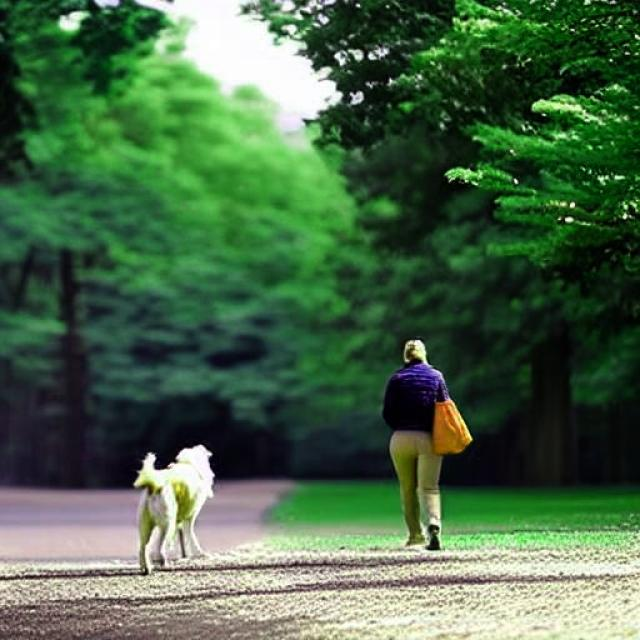Unleashed_Dog: (132, 428, 435, 576)
